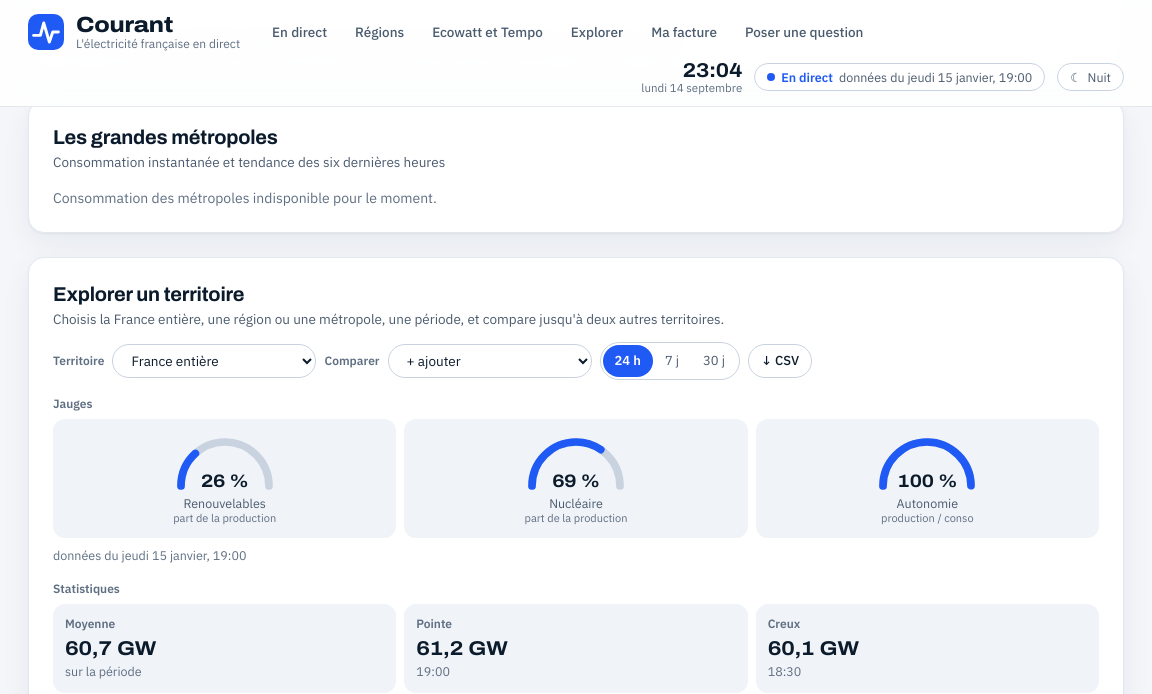
Test: Territoire porté par l'URL › changer de territoire écrit le critère dans l'URL
(page scrolled)
Select "Auvergne-Rhône-Alpes" in the dropdown labelled "Territoire" at (214, 361), box left=112, top=344, right=316, bottom=378
(page scrolled)
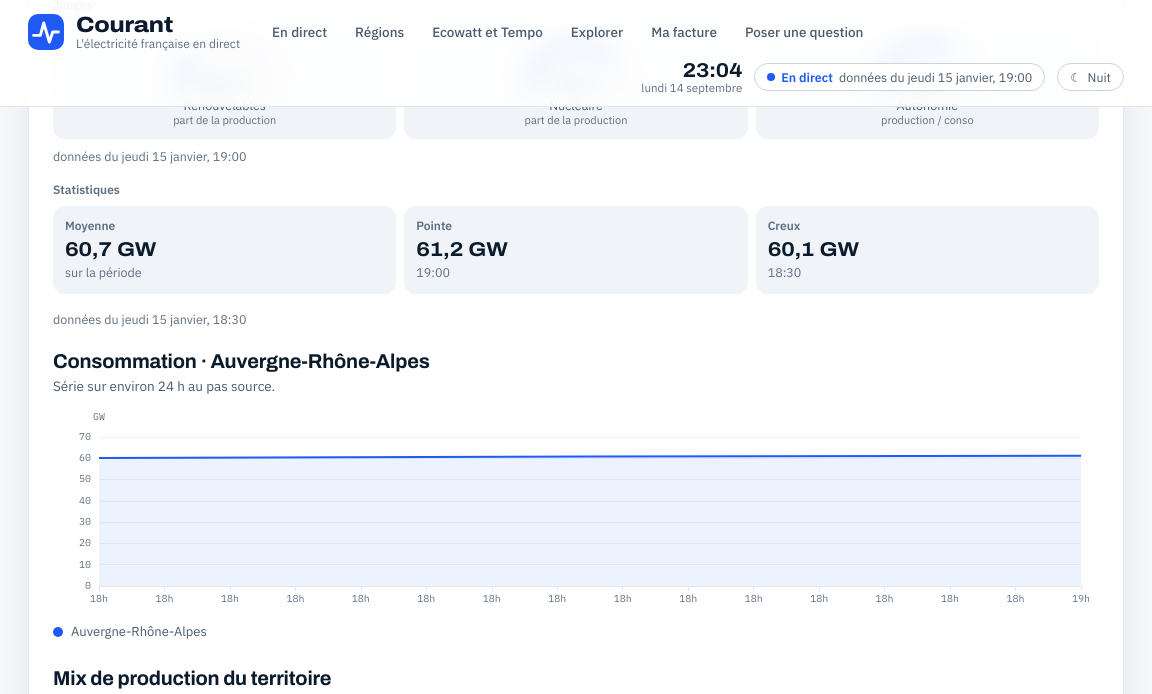
Now the heading "Consommation · Auvergne-Rhône-Alpes" is shown, box left=53, top=349, right=430, bottom=373
